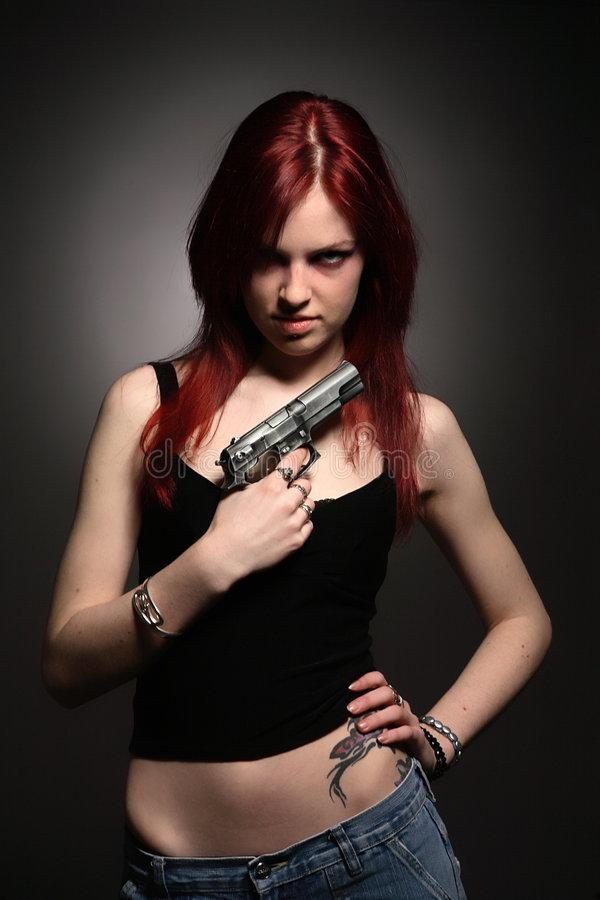criminal: (47, 80, 556, 900)
weapon: (210, 360, 368, 503)
